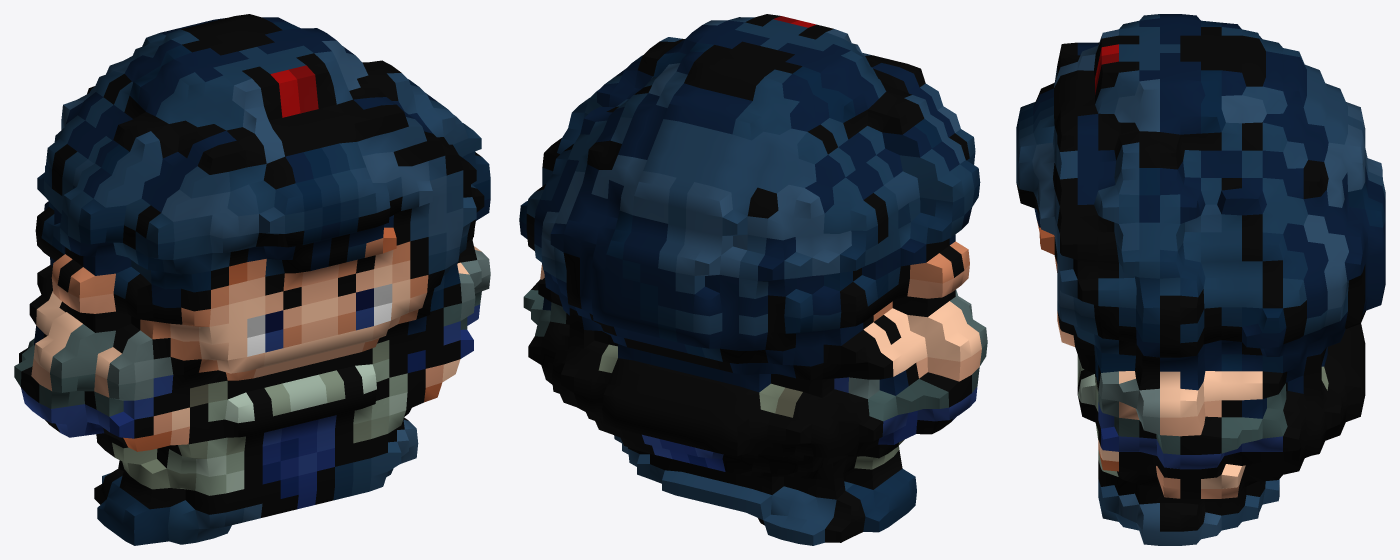
Rendered from Icon_028_03.obj.
3 views of the same model, side by side, from view 1: azimuth 30°, elevation 25°; view 2: azimuth 150°, elevation 25°; view 3: azimuth 270°, elevation 25° (orthographic). The views are drawn at different scales.
Size of the model in its own units: 2.4 by 2.4 by 1.8.
